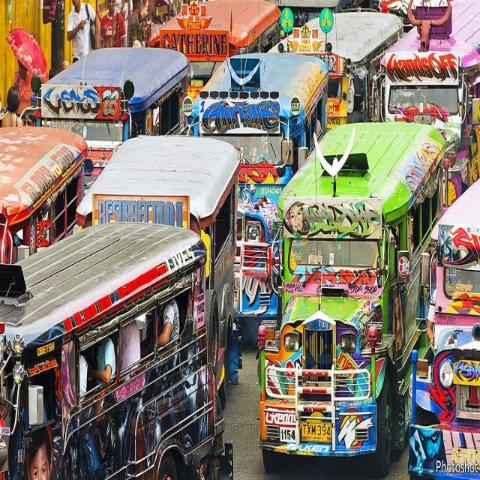jeepney: (0, 231, 243, 480), (270, 124, 436, 480), (201, 30, 339, 345), (412, 182, 480, 478), (380, 39, 480, 201)
